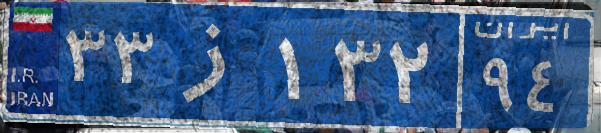1: (273, 28, 330, 110)
2: (385, 28, 445, 110)
3: (330, 28, 385, 110), (57, 26, 110, 107), (110, 28, 158, 105)
4: (525, 38, 570, 115)
9: (475, 38, 525, 113)
ز: (158, 15, 273, 115)
